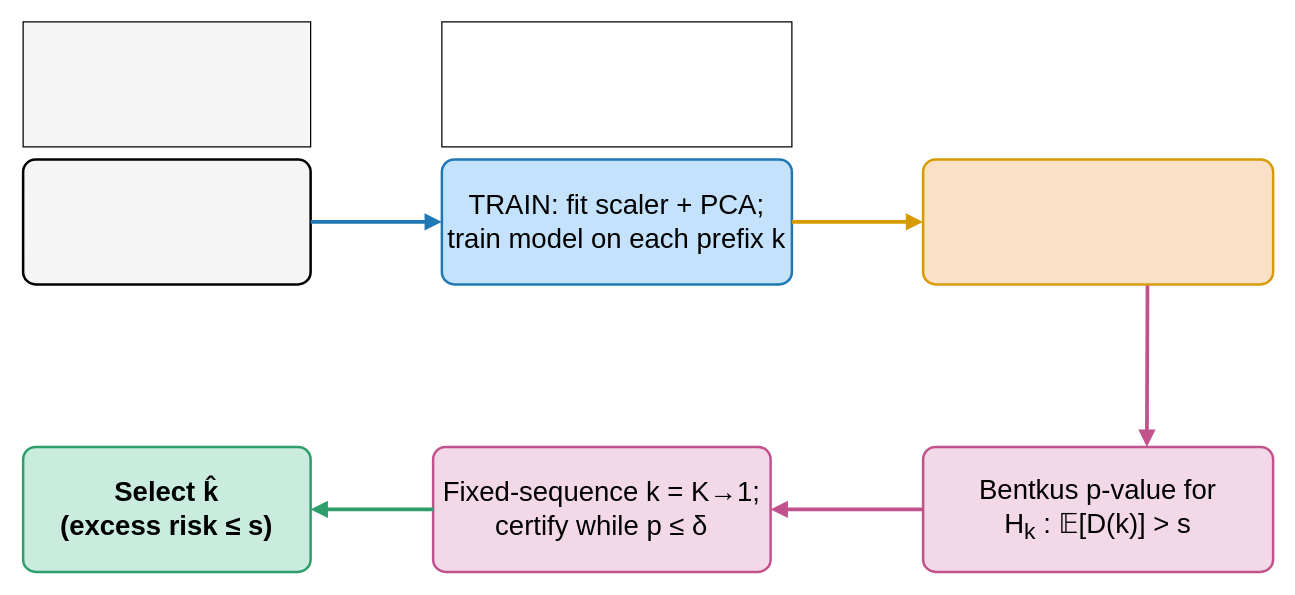
This 1295x595 diagram has some shape labels left out. The shapes that lost their labels are listed below. From the top down, each one's centre as x and y in pixels, then its label:
the point at 166,221: Train / Calibration / Test split
the point at 1097,221: CALIB: paired indicators D i (k) D̄(k) = mean excess-loss
